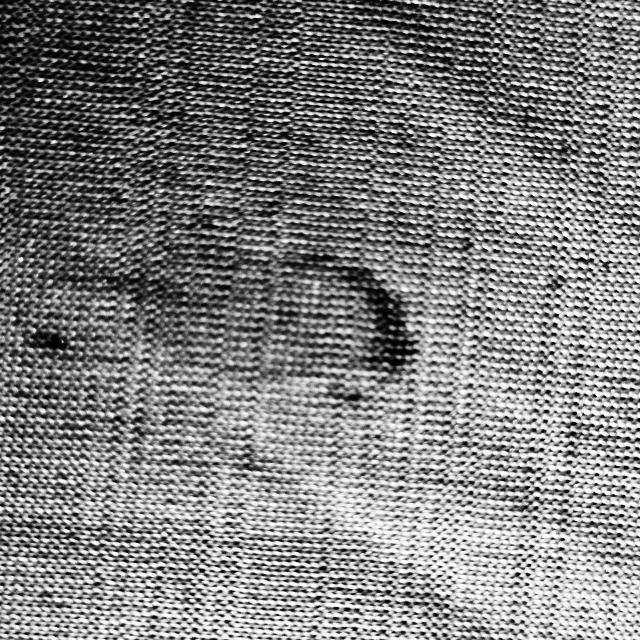Color_defect: (297, 248, 436, 412), (17, 328, 72, 362)
